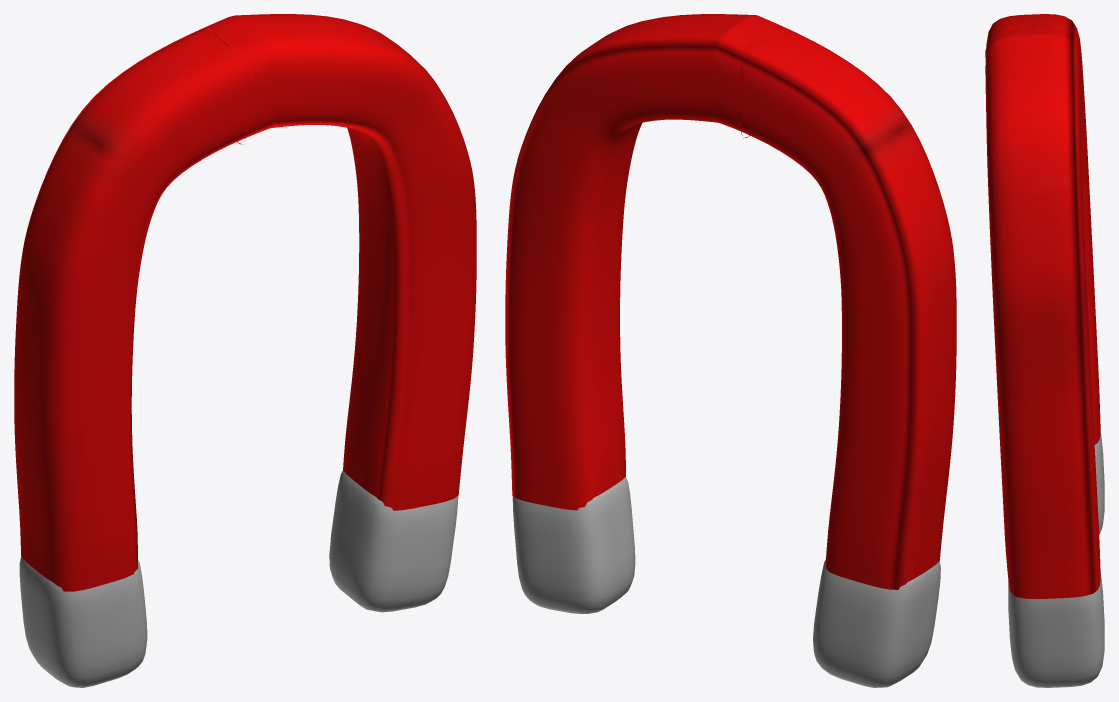
File: MagnetNew.obj
The picture shows the model from 3 angles, left to right: view 1: azimuth 30°, elevation 25°; view 2: azimuth 150°, elevation 25°; view 3: azimuth 270°, elevation 25°; orthographic projection. The views are drawn at different scales.
Visible parts, largest first — view 1: mag, ns; view 2: mag, ns; view 3: mag, ns.
Part boxes in pixels (<box>): mag: <box>14,14,476,591</box>; ns: <box>19,470,458,687</box>; mag: <box>505,14,956,589</box>; ns: <box>512,477,940,687</box>; mag: <box>985,14,1100,598</box>; ns: <box>1008,433,1104,687</box>.
Size of the model in its own units: 4.57 by 6.28 by 1.19.
